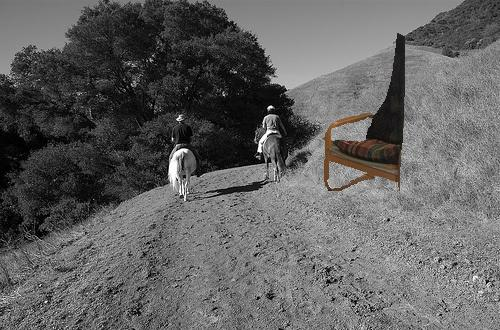tampered: (324, 34, 405, 191)
